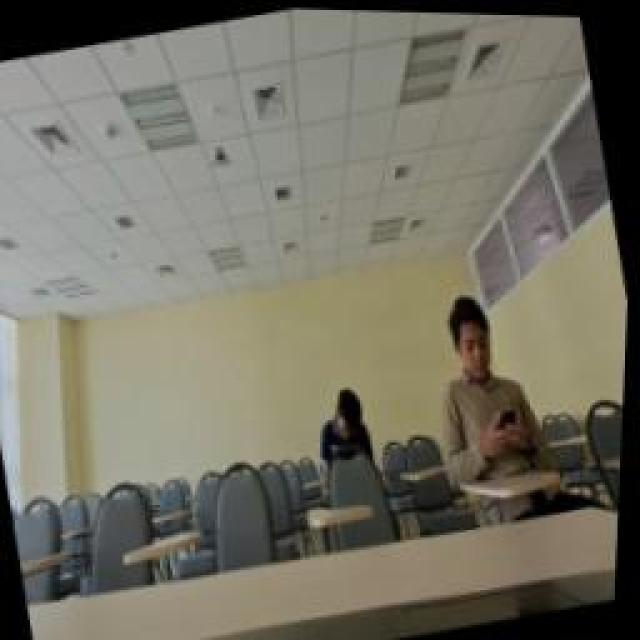phone: (410, 265, 562, 490)
study: (302, 370, 392, 508)
